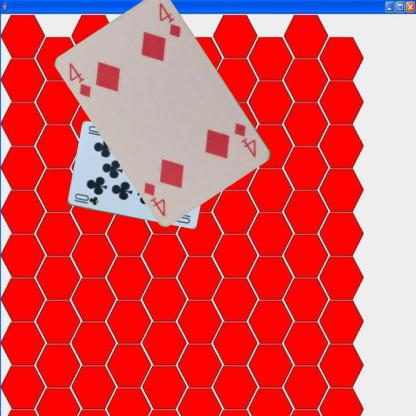10c: (72, 191, 100, 206)
4d: (66, 60, 93, 99), (232, 120, 258, 160)
